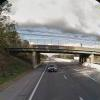Bridge: (10, 36, 97, 60)
